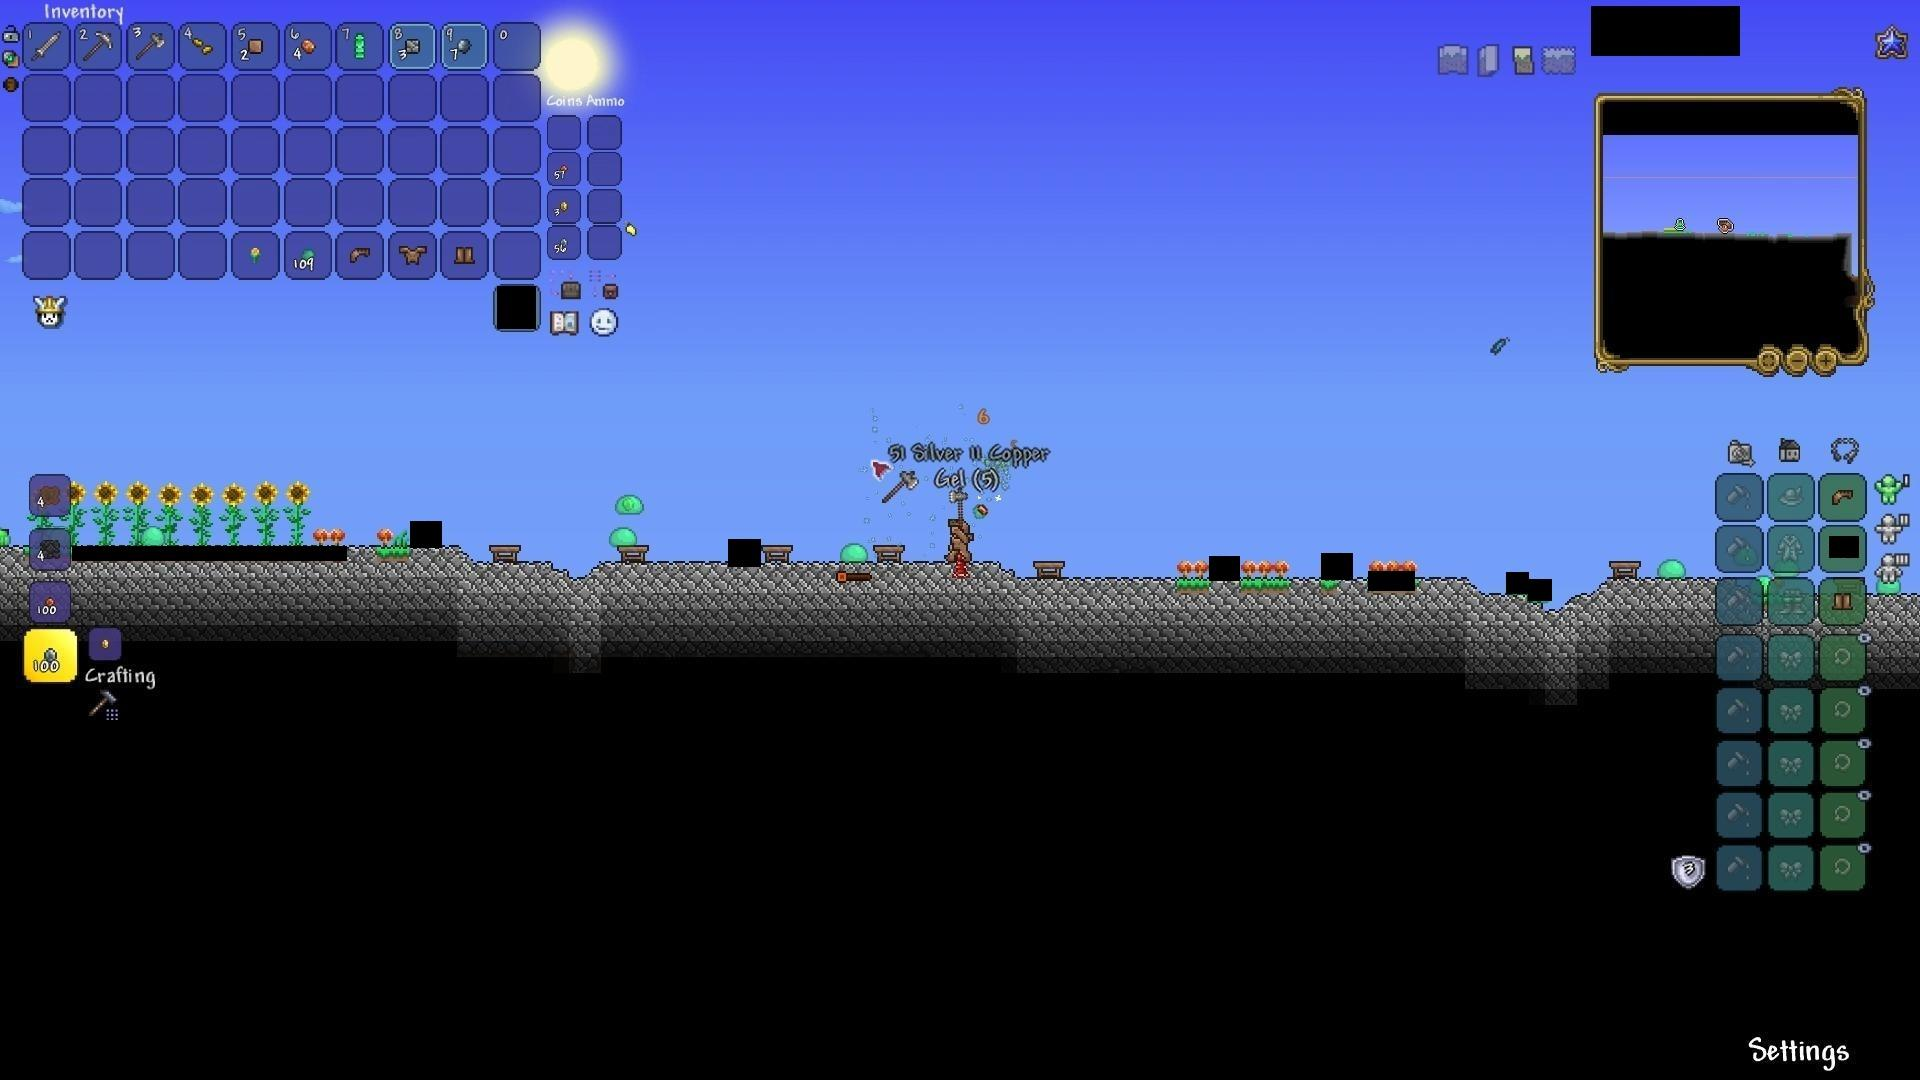breastplate: (398, 243, 427, 262)
dirt: (1241, 575, 1287, 595), (1178, 575, 1211, 593), (377, 545, 410, 560)
helmet: (345, 243, 375, 268), (1829, 484, 1857, 509)
legs: (1832, 588, 1857, 615), (451, 241, 476, 265)
slime: (1656, 551, 1688, 580), (615, 491, 644, 520), (837, 538, 868, 563), (138, 525, 170, 546), (608, 526, 638, 546)
workbench: (1607, 556, 1643, 582), (760, 543, 794, 568), (872, 542, 905, 567), (1033, 559, 1065, 584), (491, 542, 522, 566), (618, 545, 650, 566)
